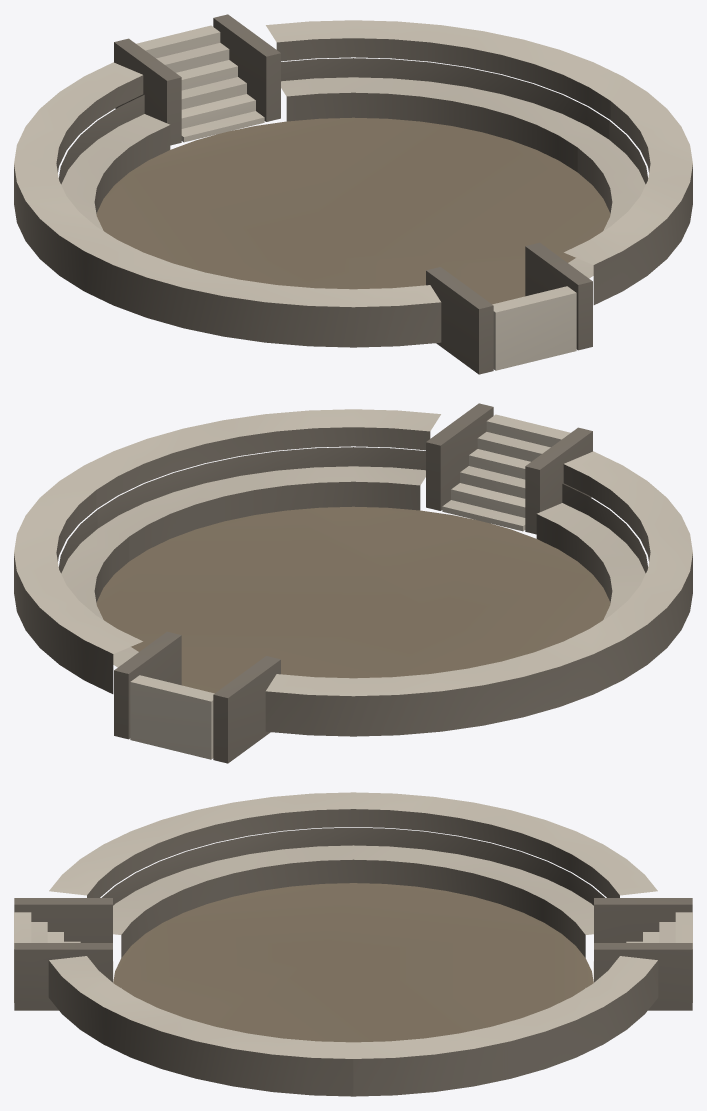
Rendered from caral_circular_plaza_lod0.glb.
3 renders of one model, top to bottom at view 1: azimuth 30°, elevation 25°; view 2: azimuth 150°, elevation 25°; view 3: azimuth 270°, elevation 25°, orthographic. The views are drawn at different scales.
Visible parts, largest first — view 1: GEO-Arch_circular_plaza_LOD0; view 2: GEO-Arch_circular_plaza_LOD0; view 3: GEO-Arch_circular_plaza_LOD0.
Boxes of the visible parts, left/top/right/bottom form: GEO-Arch_circular_plaza_LOD0: left=14, top=14, right=692, bottom=374; GEO-Arch_circular_plaza_LOD0: left=14, top=403, right=692, bottom=763; GEO-Arch_circular_plaza_LOD0: left=14, top=792, right=692, bottom=1096.
Bounding box in the file's own units: 16 × 1.7 × 17.22.
